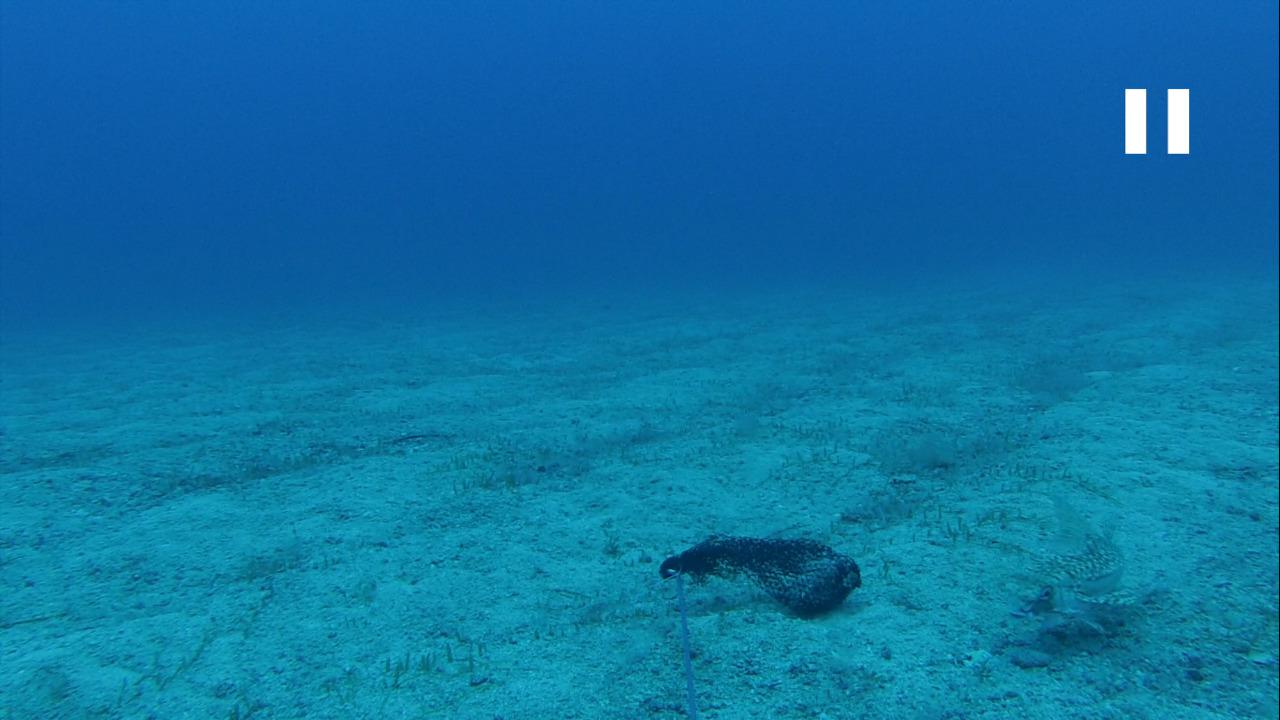dactylopterus: (986, 507, 1167, 651)
